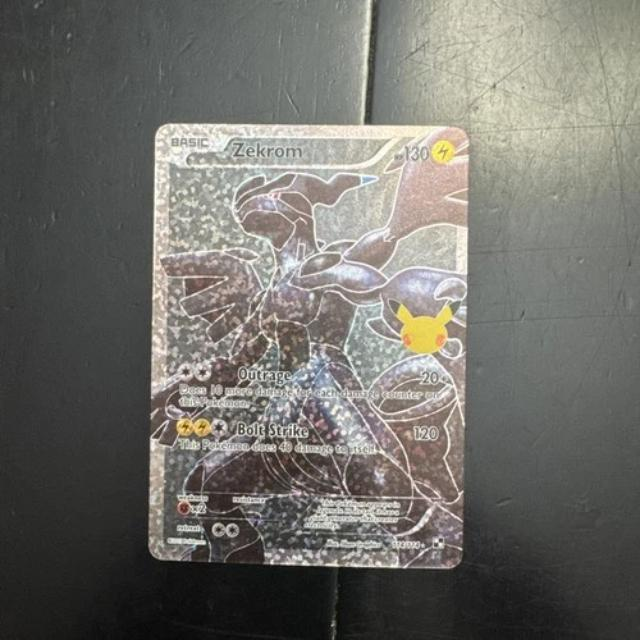Card: (143, 119, 471, 571)
Name: (220, 138, 311, 164)
